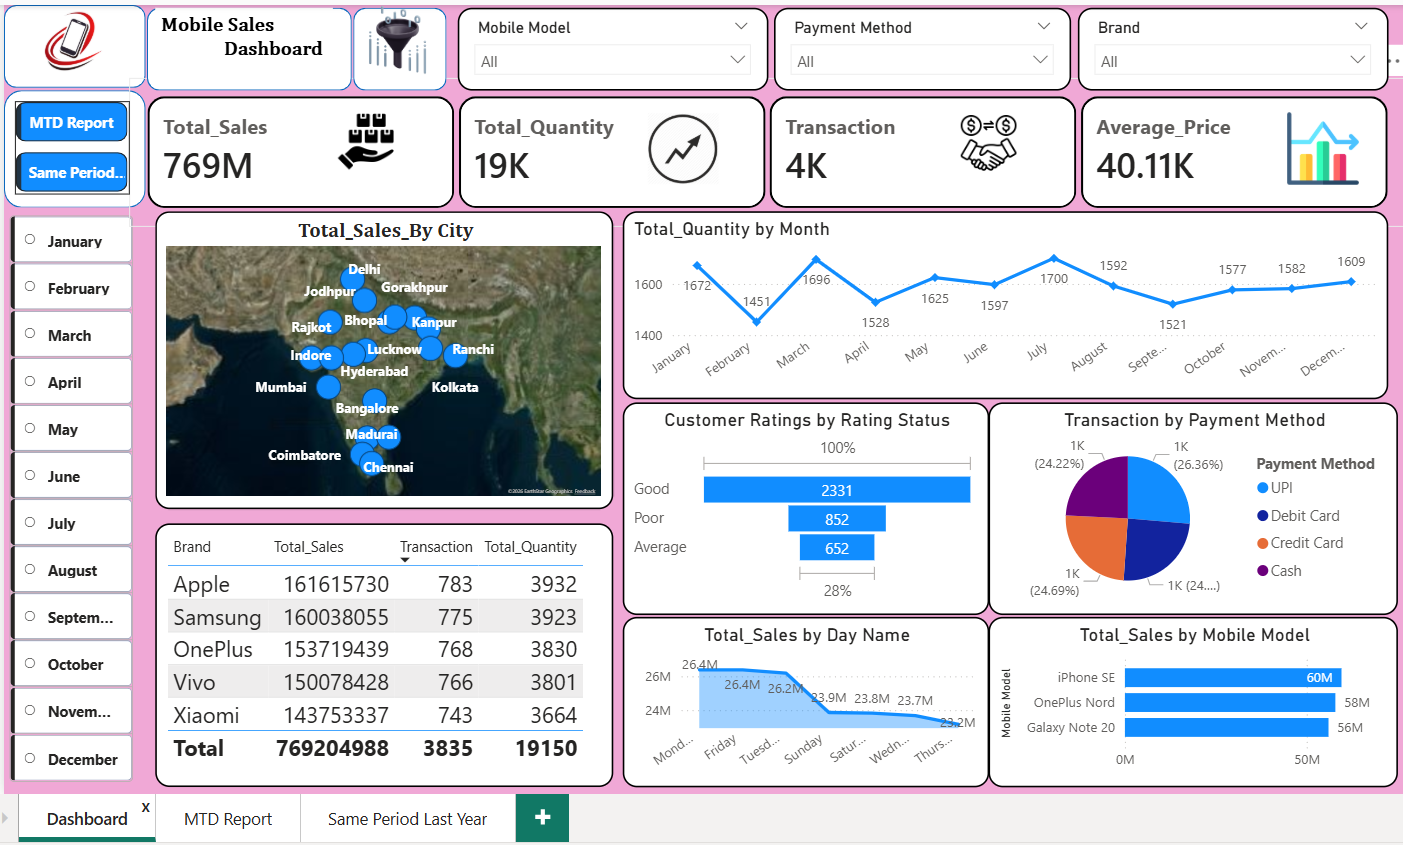

This screenshot's page, from the dashboard's own definition file:
{"tool":"powerbi","page":{"name":"Dashboard","canvas":[1280,720],"ordinal":0},"visuals":[{"type":"shape","box":[0,0,129.3,75.6],"z":0},{"type":"image","box":[31.6,0,64.6,66],"z":1000},{"type":"shape","box":[0,78.4,129.3,107.3],"z":2000},{"type":"advancedSlicerVisual","fields":{"Values":["Custom_Calender.Date.Variation.Date Hierarchy.Month"]},"box":[0,187,123.8,533.6],"z":3000},{"type":"cardVisual","fields":{"Data":["Sales_Data.Total_Sales","Sales_Data.Total_Quantity","Sales_Data.Transaction","Sales_Data.Average_Price"]},"box":[114.1,66,1166.2,136.2],"z":4000},{"type":"image","box":[286.1,97.6,88,53.6],"z":5000},{"type":"image","box":[825.2,100.4,148.5,50.9],"z":6000},{"type":"image","box":[1164.9,97.6,78.4,66],"z":7000},{"type":"image","box":[576.2,97.6,88,66],"z":8000},{"type":"slicer","fields":{"Values":["Sales_Data.Mobile Model"]},"box":[414,2.8,283.3,75.6],"z":9000},{"type":"slicer","fields":{"Values":["Sales_Data.Payment Method"]},"box":[702.8,2.8,270.9,75.6],"z":10000},{"type":"slicer","fields":{"Values":["Sales_Data.Brand"]},"box":[980.6,2.8,283.3,75.6],"z":11000},{"type":"shape","box":[319.1,2.8,85.3,75.6],"z":12000},{"type":"image","box":[313.6,0,90.8,63.3],"z":13000},{"type":"shape","box":[130.7,2.8,187,75.6],"z":14000},{"type":"textbox","box":[137.5,2.8,162.3,72.9],"z":15000},{"type":"azureMap","title":"Total_Sales_By City","fields":{"Category":["Sales_Data.City"]},"box":[137.5,188.4,418.1,272.3],"z":16000},{"type":"lineChart","fields":{"Category":["Custom_Calender.Date.Variation.Date Hierarchy.Month"],"Y":["Sales_Data.Total_Quantity"]},"box":[565.2,188.4,698.6,171.9],"z":17000},{"type":"funnel","title":" Customer Ratings by Rating Status","fields":{"Y":["CountNonNull(Sales_Data.Customer Ratings)"],"Category":["Sales_Data.Rating Status"]},"box":[565.2,363.1,334.2,193.9],"z":18000},{"type":"pieChart","fields":{"Y":["Sales_Data.Transaction"],"Category":["Sales_Data.Payment Method"]},"box":[899.4,363.1,374.1,193.9],"z":19000},{"type":"barChart","fields":{"Y":["Sales_Data.Total_Sales"],"Category":["Sales_Data.Mobile Model"]},"box":[899.4,558.4,374.1,155.4],"z":20000},{"type":"areaChart","fields":{"Y":["Sales_Data.Total_Sales"],"Category":["Custom_Calender.Day Name"]},"box":[565.2,558.4,334.2,155.4],"z":21000},{"type":"tableEx","fields":{"Values":["Sales_Data.Brand","Sales_Data.Total_Sales","Sales_Data.Transaction","Sales_Data.Total_Quantity"]},"box":[137.5,473.1,418.1,240.7],"z":22000},{"type":"pageNavigator","box":[9.6,88,104.5,85.3],"z":23000}]}

Visuals, with their boxes in screenshot pixels (x1, y1, x2, y2):
shape: BBox(11, 7, 151, 89)
image: BBox(45, 7, 115, 79)
shape: BBox(11, 92, 151, 208)
advancedSlicerVisual - Custom_Calender.Date.Variation.Date Hierarchy.Month: BBox(11, 209, 145, 786)
cardVisual - Sales_Data.Total_Sales x Sales_Data.Total_Quantity: BBox(134, 79, 1395, 226)
image: BBox(320, 113, 415, 171)
image: BBox(903, 116, 1063, 171)
image: BBox(1270, 113, 1355, 184)
image: BBox(634, 113, 729, 184)
slicer - Sales_Data.Mobile Model: BBox(458, 10, 765, 92)
slicer - Sales_Data.Payment Method: BBox(771, 10, 1063, 92)
slicer - Sales_Data.Brand: BBox(1071, 10, 1377, 92)
shape: BBox(356, 10, 448, 92)
image: BBox(350, 7, 448, 76)
shape: BBox(152, 10, 354, 92)
textbox: BBox(160, 10, 335, 89)
"Total_Sales_By City" azureMap: BBox(160, 211, 612, 505)
lineChart - Custom_Calender.Date.Variation.Date Hierarchy.Month x Sales_Data.Total_Quantity: BBox(622, 211, 1377, 397)
" Customer Ratings by Rating Status" funnel: BBox(622, 400, 983, 609)
pieChart - Sales_Data.Transaction x Sales_Data.Payment Method: BBox(983, 400, 1388, 609)
barChart - Sales_Data.Total_Sales x Sales_Data.Mobile Model: BBox(983, 611, 1388, 779)
areaChart - Sales_Data.Total_Sales x Custom_Calender.Day Name: BBox(622, 611, 983, 779)
tableEx - Sales_Data.Brand x Sales_Data.Total_Sales: BBox(160, 519, 612, 779)
pageNavigator: BBox(21, 102, 134, 195)
